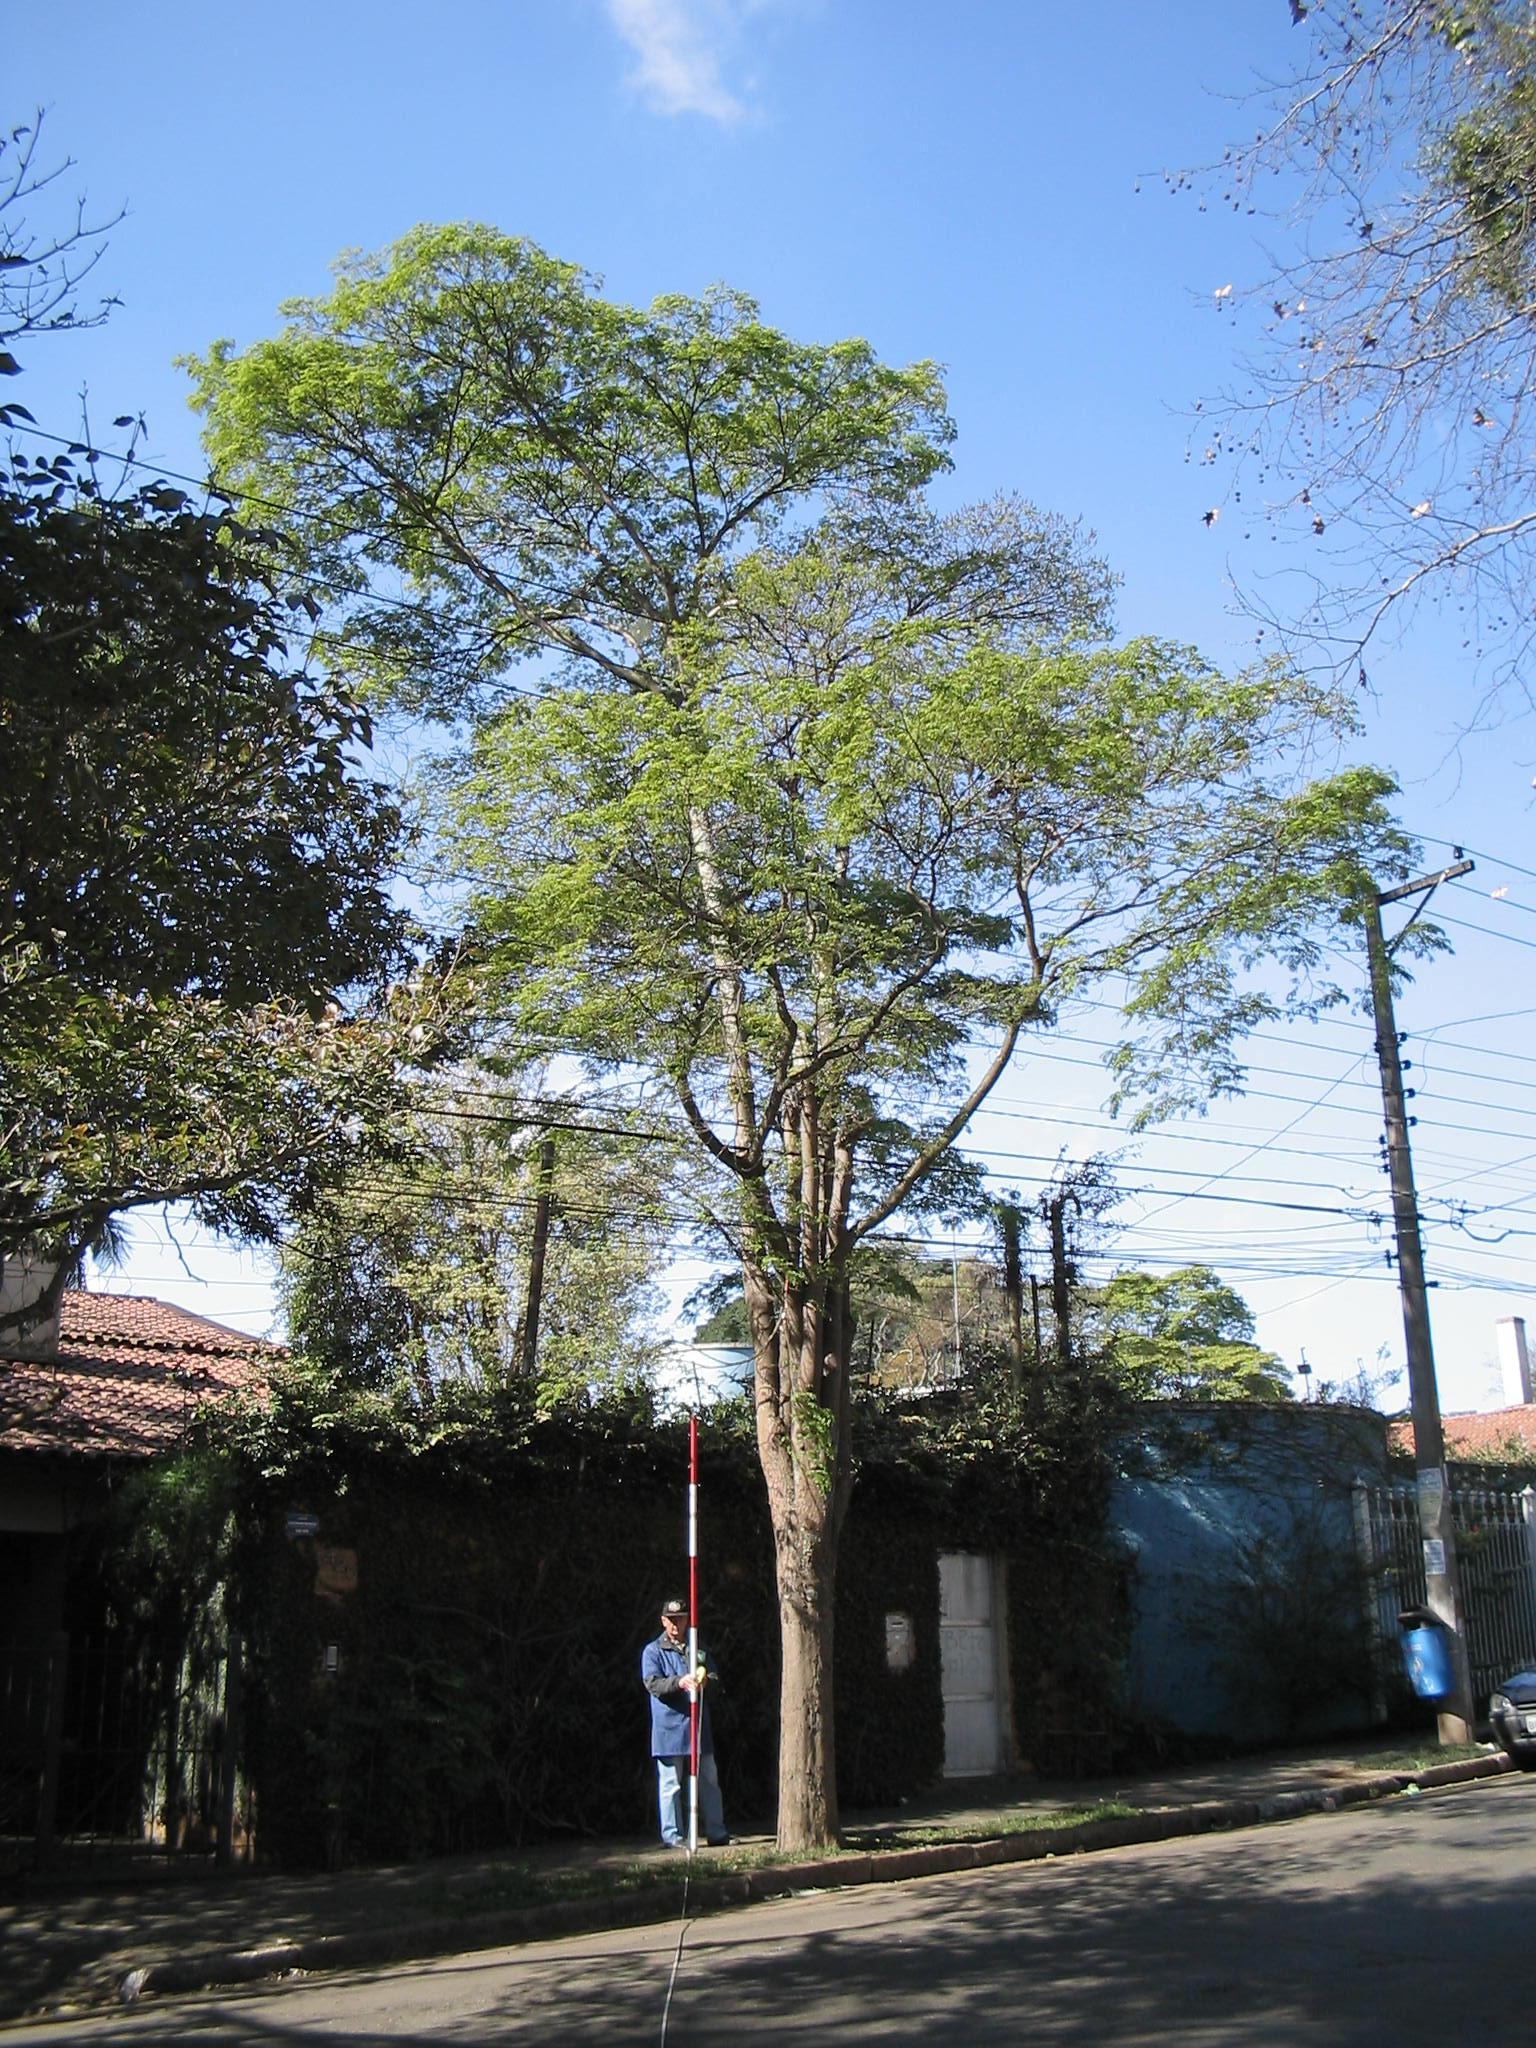crown: (186, 226, 1438, 1387)
stem: (724, 1508, 892, 1846)
stick: (652, 1405, 724, 1851)
tree: (177, 221, 1449, 1858)
